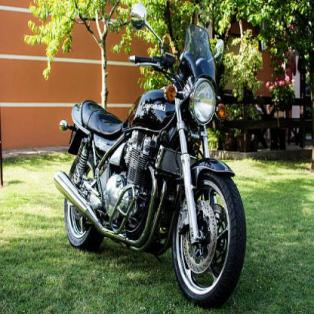Motocicleta: (54, 0, 249, 305)
